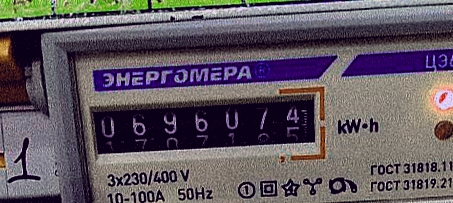0: (92, 115, 112, 141), (219, 107, 236, 133)
4: (280, 103, 297, 127)
5: (281, 127, 297, 145)
6: (125, 112, 145, 140), (187, 110, 205, 135)
7: (248, 106, 267, 133)
9: (155, 111, 175, 137)
screen: (73, 83, 329, 176)
